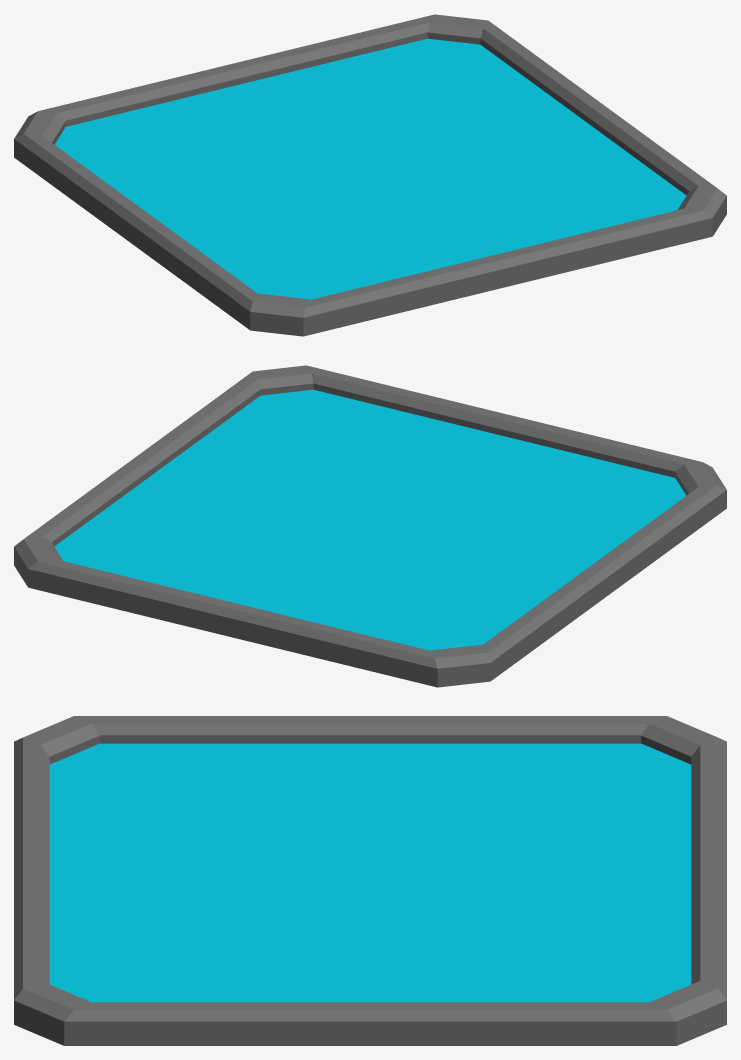
File: Slip Trap.glb
3 renders of one model, top to bottom at view 1: azimuth 30°, elevation 25°; view 2: azimuth 150°, elevation 25°; view 3: azimuth 270°, elevation 25°, orthographic. The views are drawn at different scales.
Visible parts, largest first — view 1: Slip Trap; view 2: Slip Trap; view 3: Slip Trap.
Boxes of the visible parts, bbox=[...] form: Slip Trap: bbox=[14, 14, 726, 336]; Slip Trap: bbox=[14, 365, 726, 687]; Slip Trap: bbox=[14, 716, 726, 1045].
Size of the model in its own units: 2 by 0.1 by 2.
